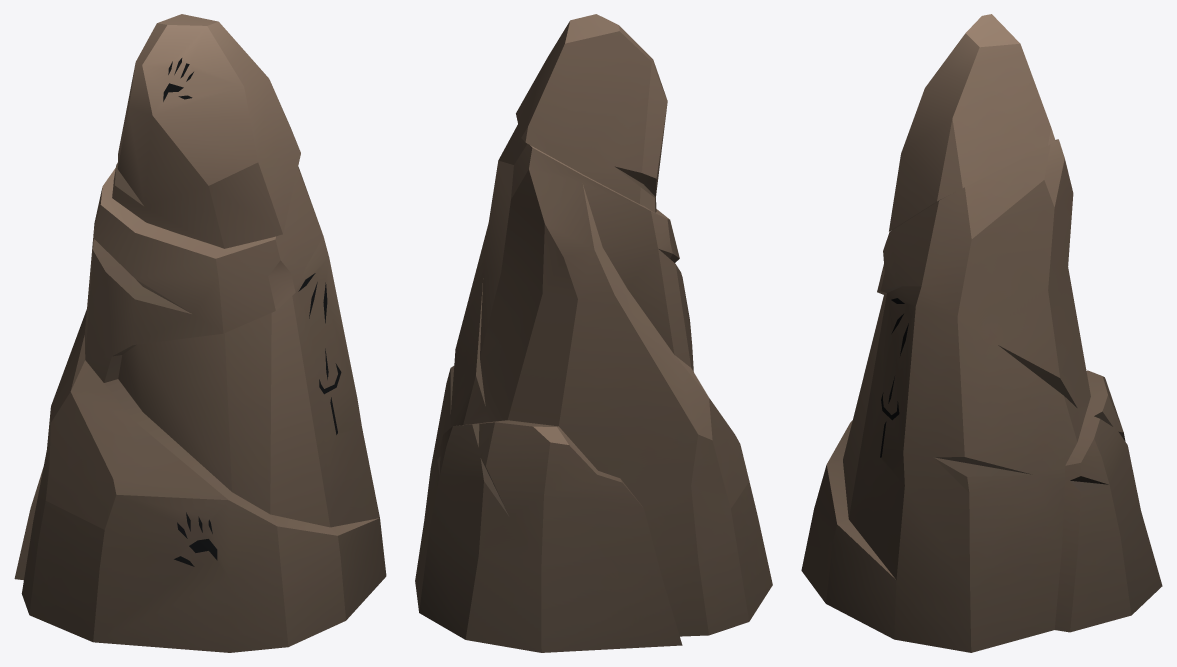
Rendered from Rock_Totem_2A.fbx.
The picture shows the model from 3 angles, left to right: view 1: azimuth 30°, elevation 25°; view 2: azimuth 150°, elevation 25°; view 3: azimuth 270°, elevation 25°; orthographic projection. The views are drawn at different scales.
Visible parts, largest first — view 1: Rock_Totem_2A; view 2: Rock_Totem_2A; view 3: Rock_Totem_2A.
Part boxes in pixels (x1,y1,x2,y2): Rock_Totem_2A: [14, 14, 386, 652]; Rock_Totem_2A: [415, 14, 772, 652]; Rock_Totem_2A: [801, 14, 1162, 652].
Bounding box in the file's own units: 236 × 376 × 227.
